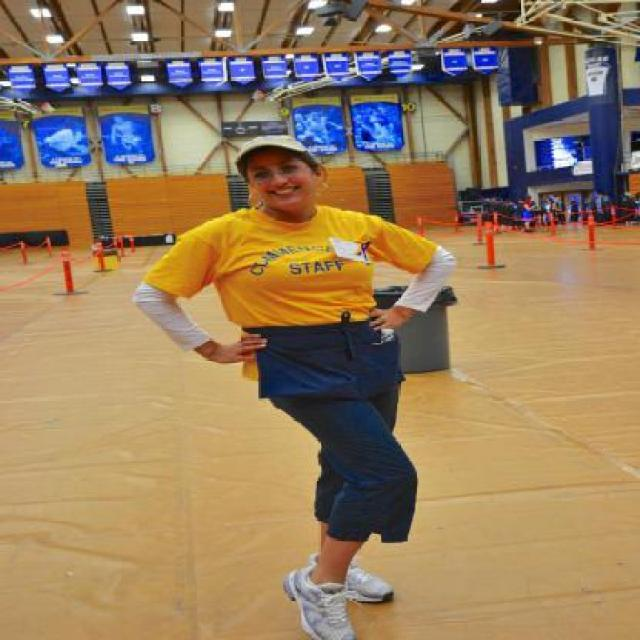sem_oculos: (236, 153, 328, 189)
